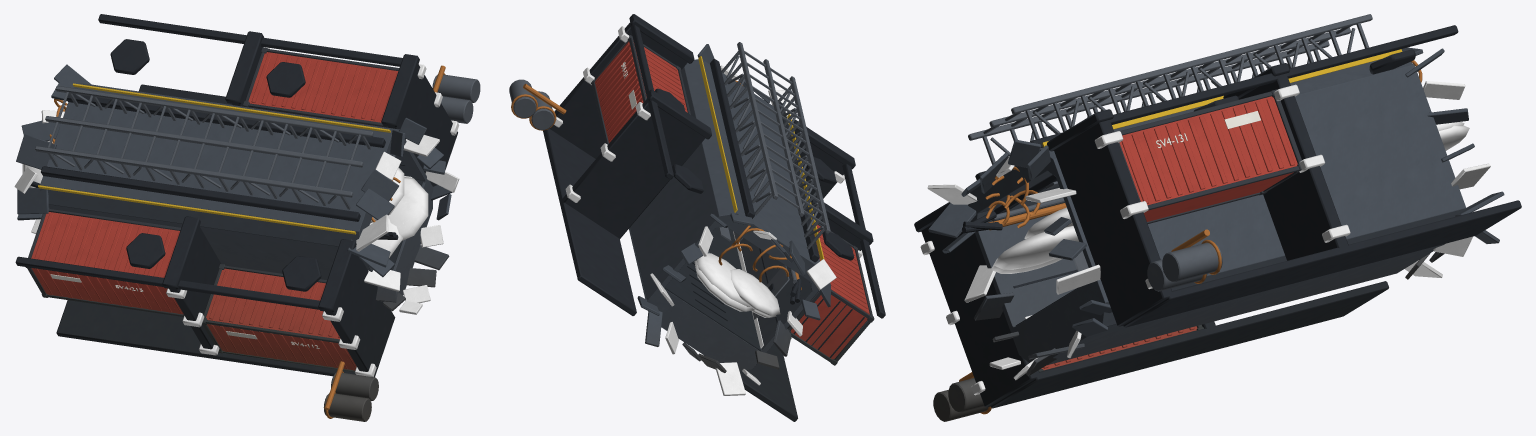
The model's file is sv04_spine_a.glb.
The picture shows the model from 3 angles, left to right: view 1: azimuth 30°, elevation 25°; view 2: azimuth 150°, elevation 25°; view 3: azimuth 270°, elevation 25°; orthographic projection. The views are drawn at different scales.
Visible parts, largest first — view 1: sv04_spine_a; view 2: sv04_spine_a; view 3: sv04_spine_a.
Part boxes in pixels (bbox=[...]): sv04_spine_a: bbox=[14, 14, 480, 421]; sv04_spine_a: bbox=[509, 14, 885, 421]; sv04_spine_a: bbox=[914, 14, 1521, 421].
Size of what is drawn, in the model's own units: 18.46 by 12.31 by 17.78.
24 materials, 22 textured.
